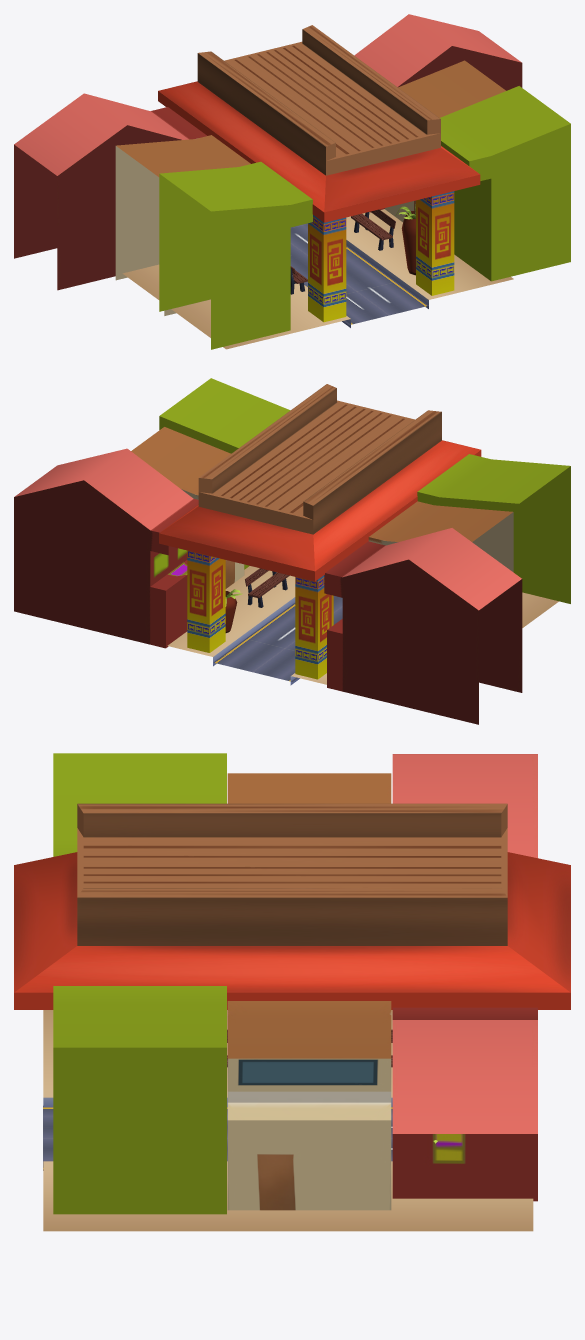
Rendered from city_tunnel.fbx.
3 renders of one model, top to bottom at view 1: azimuth 30°, elevation 25°; view 2: azimuth 150°, elevation 25°; view 3: azimuth 270°, elevation 25°, orthographic. The views are drawn at different scales.
Visible parts, largest first — view 1: Tunnel_city; view 2: Tunnel_city; view 3: Tunnel_city.
Boxes of the visible parts, x1,y1,x2,y2 form: Tunnel_city: (14, 14, 570, 349); Tunnel_city: (14, 378, 570, 724); Tunnel_city: (14, 753, 570, 1231).
Size of the model in its own units: 1734 by 633 by 1074.
Materials: 5 (5 with a texture image).
